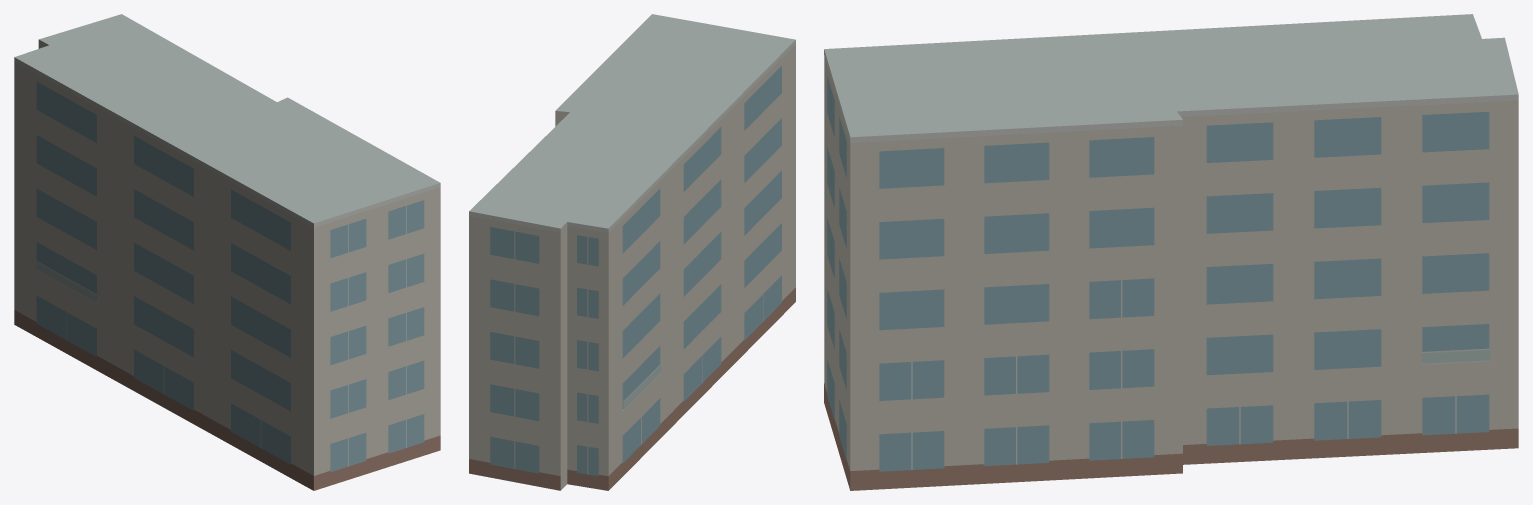
File: survey-upis-32741413.glb
The picture shows the model from 3 angles, left to right: view 1: azimuth 30°, elevation 25°; view 2: azimuth 150°, elevation 25°; view 3: azimuth 270°, elevation 25°; orthographic projection. The views are drawn at different scales.
Parts seen in each view (by area): view 1: survey-upis-32741413.tmp; view 2: survey-upis-32741413.tmp; view 3: survey-upis-32741413.tmp.
Part boxes in pixels (x1,y1,x2,y2): survey-upis-32741413.tmp: [14, 14, 440, 490]; survey-upis-32741413.tmp: [469, 14, 795, 490]; survey-upis-32741413.tmp: [824, 14, 1518, 490].
Bounding box in the file's own units: 11.26 × 15.05 × 26.8.
